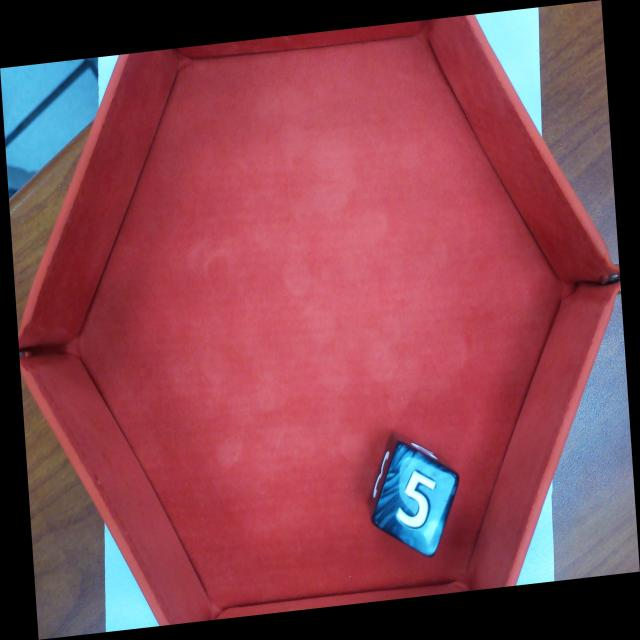dice: (377, 441, 458, 557)
